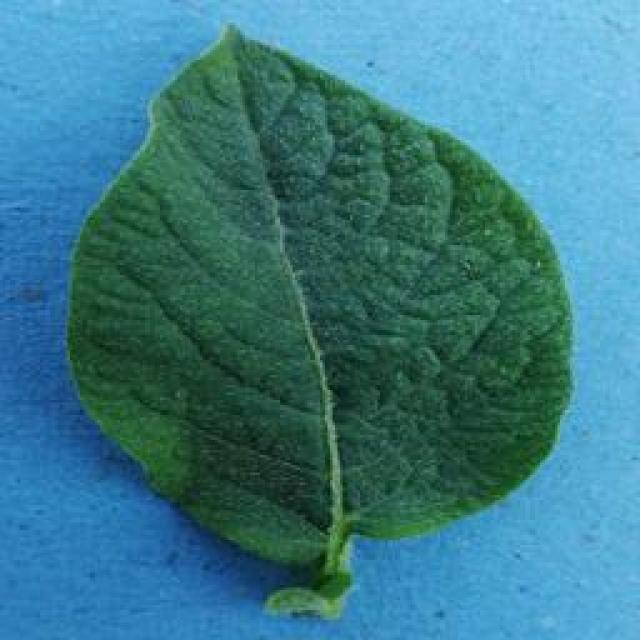Potato_Healthy: (67, 20, 570, 612)
